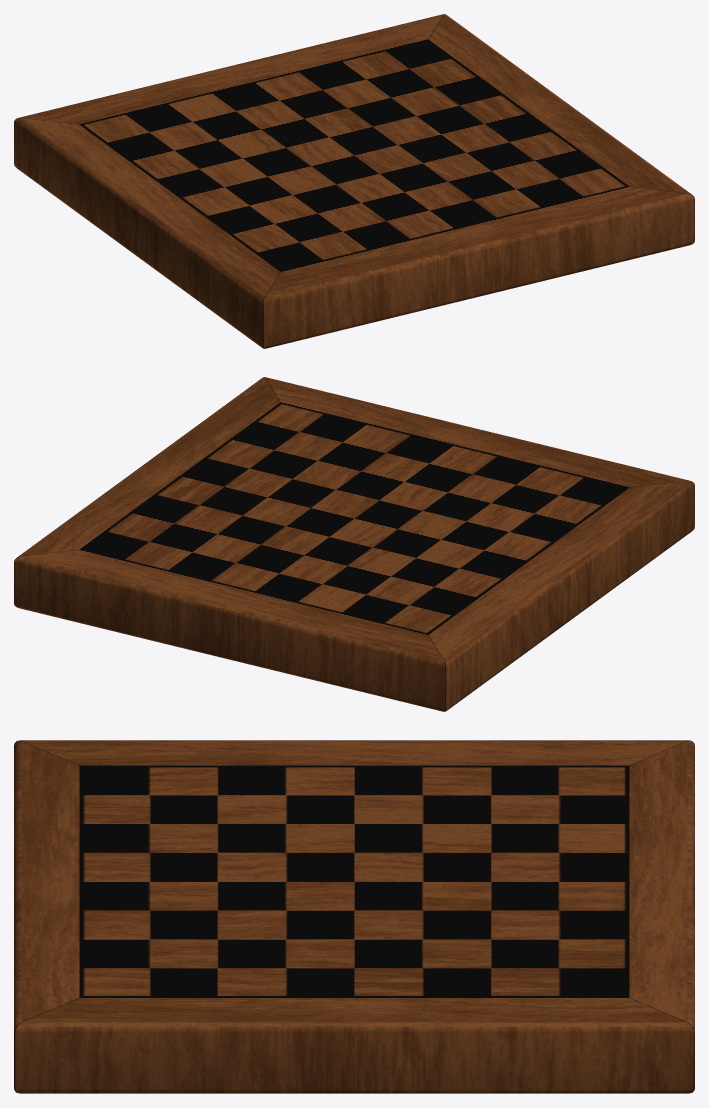
The model's file is Board.glb.
The picture shows the model from 3 angles, top to bottom: view 1: azimuth 30°, elevation 25°; view 2: azimuth 150°, elevation 25°; view 3: azimuth 270°, elevation 25°; orthographic projection. The views are drawn at different scales.
Visible parts, largest first — view 1: ChessBoard; view 2: ChessBoard; view 3: ChessBoard.
Part boxes in pixels (x1,y1,x2,y2): ChessBoard: (14,14,694,348); ChessBoard: (14,377,694,711); ChessBoard: (14,740,694,1093).
Bounding box in the file's own units: 0.35 × 0.04 × 0.35.
Materials: 1 (1 with a texture image).
